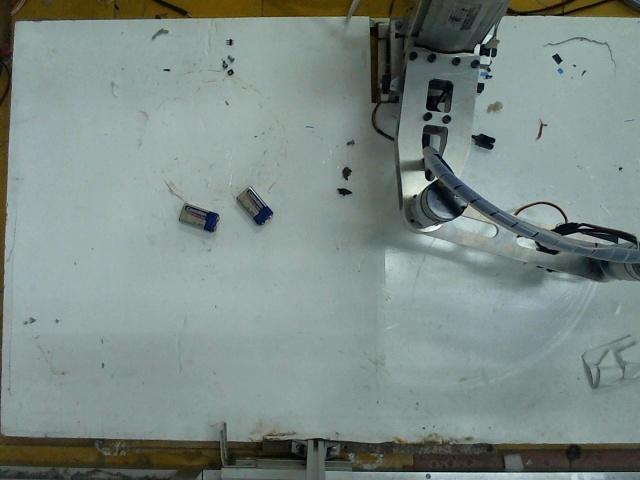battery: (235, 183, 276, 223), (175, 198, 220, 232)
